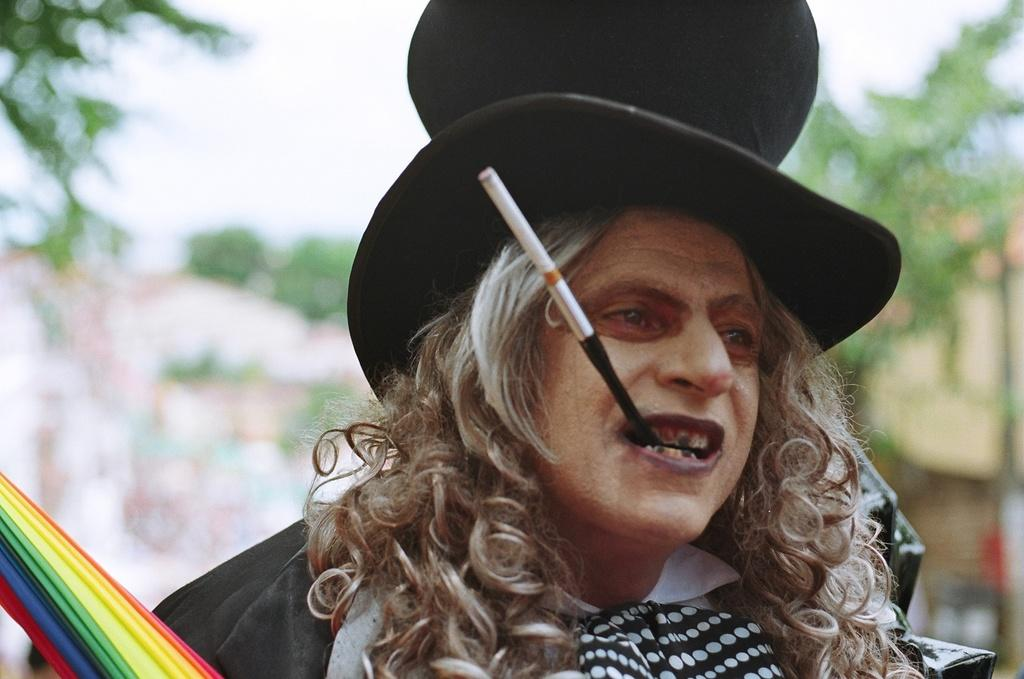Hat: (346, 0, 900, 407)
